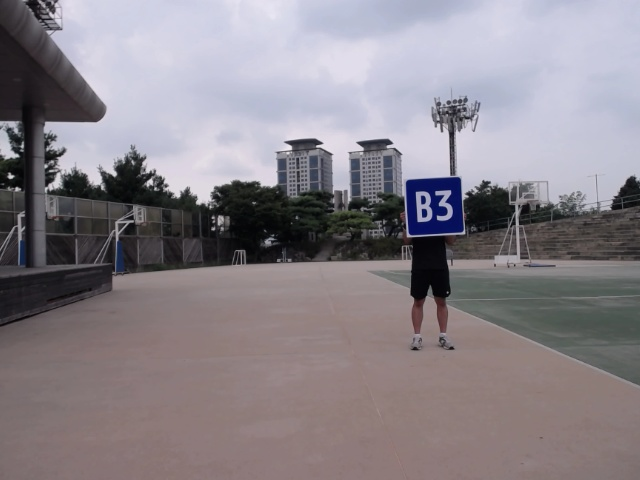delivery_b3: (404, 178, 468, 238)
